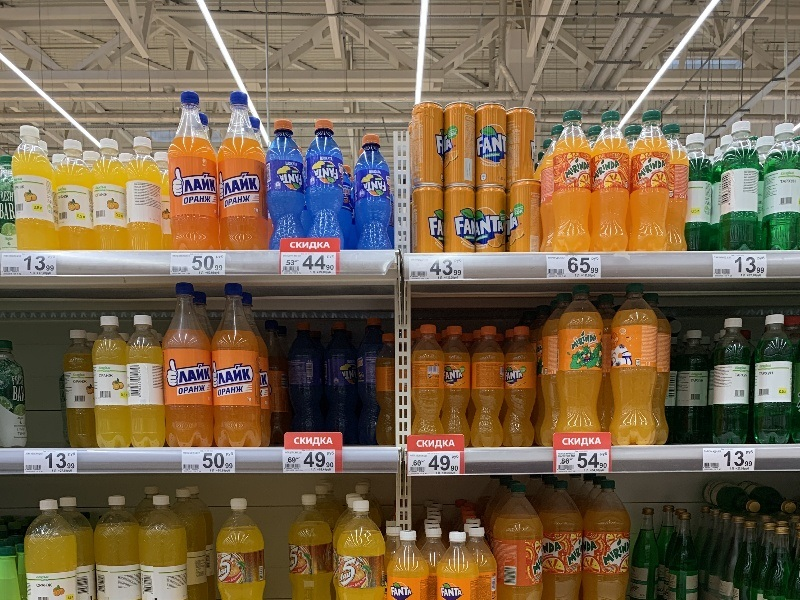lemonade: (160, 89, 227, 255), (212, 89, 276, 262), (156, 278, 217, 451), (208, 280, 268, 455), (607, 279, 658, 448), (584, 106, 640, 258), (553, 285, 607, 439), (8, 122, 62, 261), (546, 105, 594, 257), (625, 105, 673, 257), (260, 115, 312, 255), (121, 311, 171, 453), (721, 115, 769, 261), (87, 313, 134, 453), (710, 314, 759, 448), (347, 129, 397, 258), (752, 305, 794, 450), (52, 135, 100, 261), (403, 321, 452, 443), (302, 115, 347, 247), (88, 130, 132, 261), (123, 131, 168, 256), (467, 319, 507, 451), (502, 322, 540, 454), (441, 320, 473, 451)
